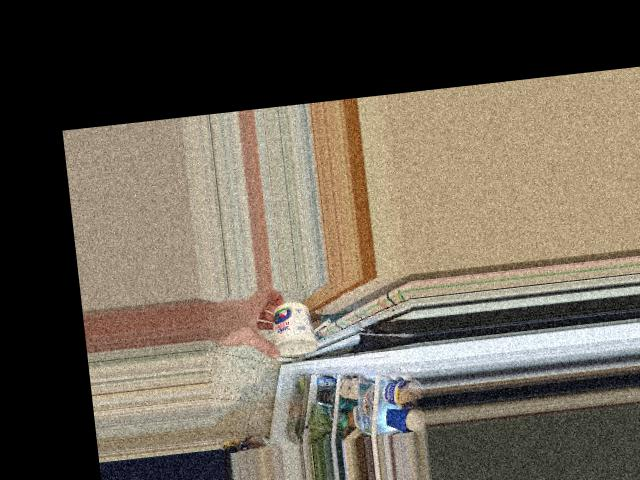cotage: (269, 295, 319, 355)
